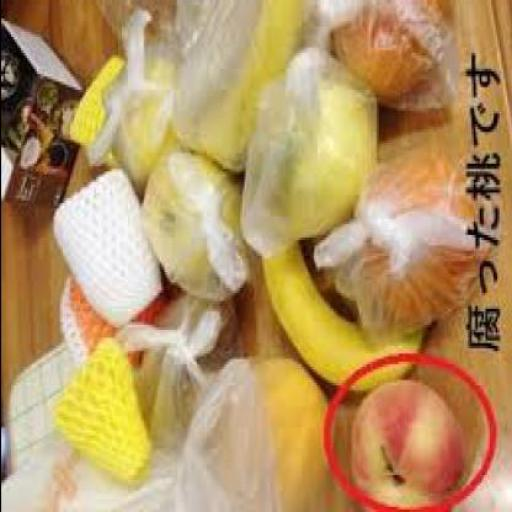biodegradable: (258, 246, 424, 396), (348, 382, 468, 510), (370, 169, 471, 317), (250, 366, 330, 510), (218, 2, 296, 143), (288, 85, 358, 237), (340, 2, 443, 95), (154, 172, 231, 278)
cardboard: (1, 24, 79, 210)
plastic: (314, 132, 476, 341), (238, 52, 372, 259), (168, 359, 328, 509), (166, 2, 300, 168), (306, 2, 451, 114), (138, 296, 234, 456), (136, 153, 239, 301), (85, 13, 166, 195), (150, 2, 214, 69), (91, 2, 166, 58), (114, 328, 180, 360)
